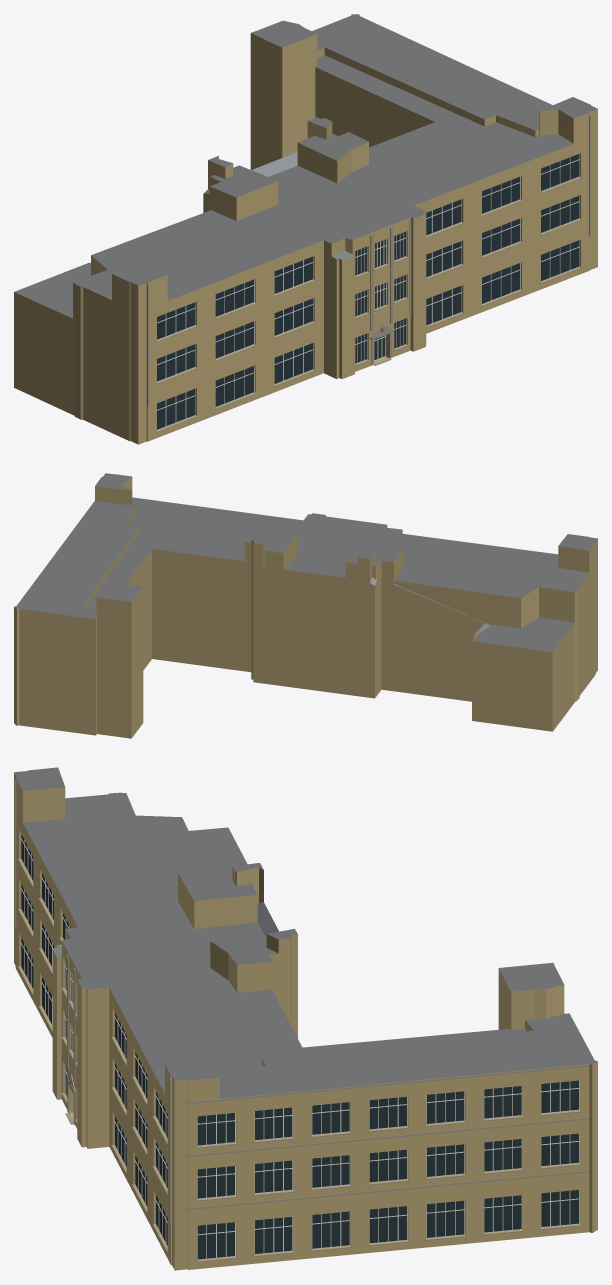
The model's file is recipe-large-berlage-lyceum.glb.
3 views of the same model, one above another, from view 1: azimuth 30°, elevation 25°; view 2: azimuth 150°, elevation 25°; view 3: azimuth 270°, elevation 25° (orthographic). The views are drawn at different scales.
Parts seen in each view (by area): view 1: berlage-lyceum; view 2: berlage-lyceum; view 3: berlage-lyceum.
Boxes of the visible parts, x1,y1,x2,y2 form: berlage-lyceum: (14, 14, 597, 444); berlage-lyceum: (14, 473, 597, 738); berlage-lyceum: (14, 767, 597, 1270).
Size of the model in its own units: 70.08 by 20.07 by 52.68.
